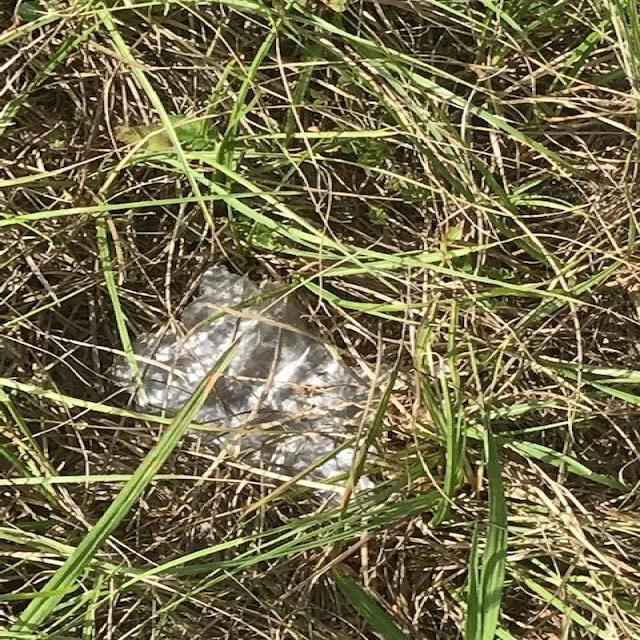litter: (113, 269, 401, 492)
